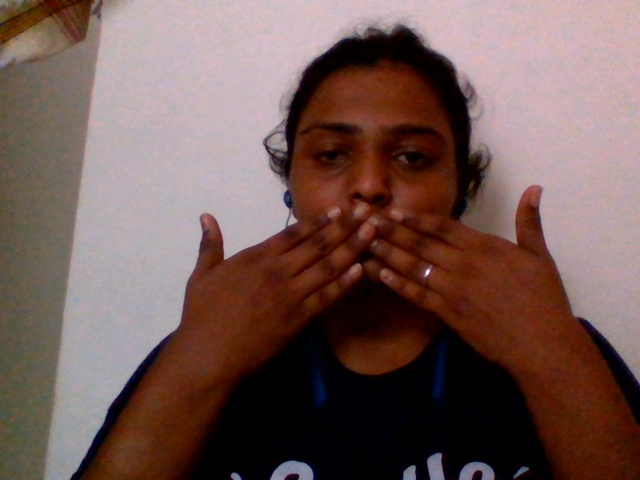Thanks: (171, 162, 607, 385)
